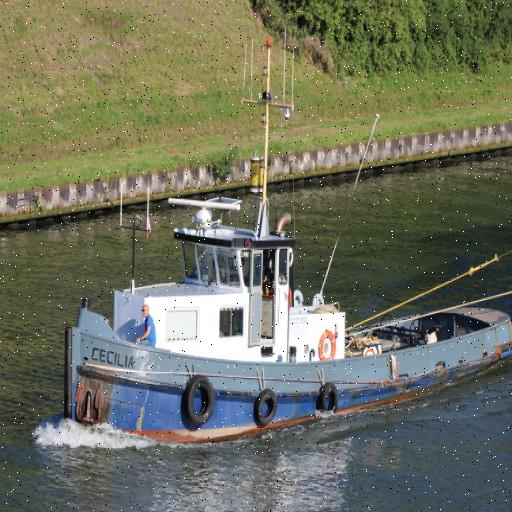tugboat: (61, 27, 512, 461)
